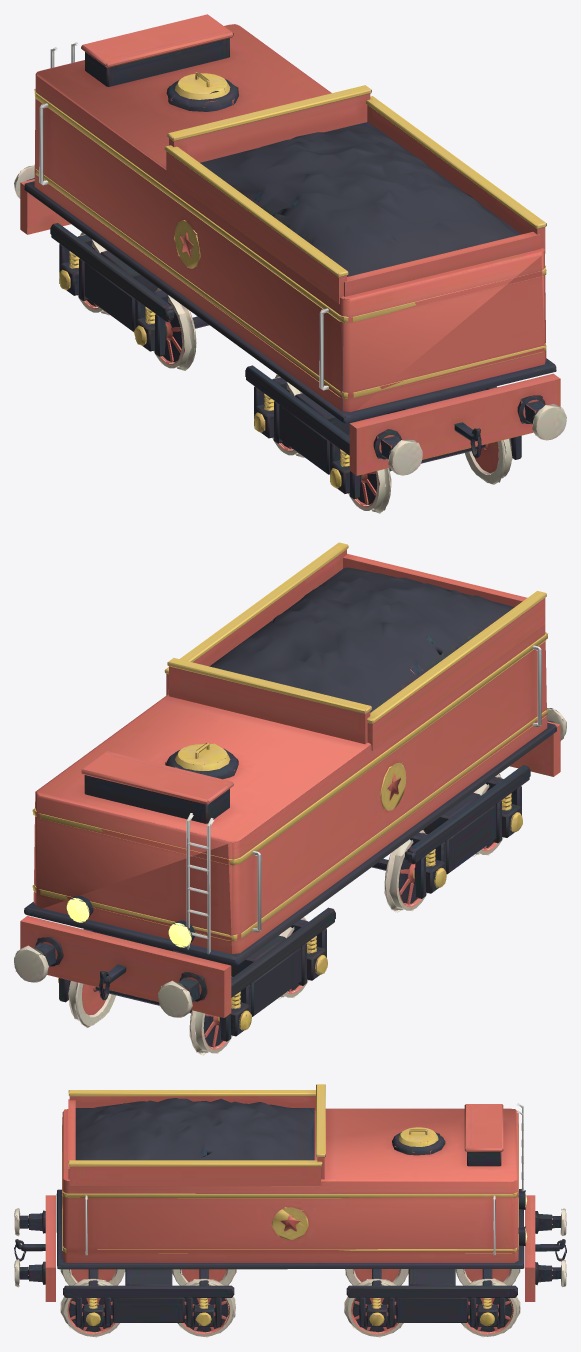
File: tender.glb
The picture shows the model from 3 angles, top to bottom: view 1: azimuth 30°, elevation 25°; view 2: azimuth 150°, elevation 25°; view 3: azimuth 270°, elevation 25°; orthographic projection. The views are drawn at different scales.
Visible parts, largest first — view 1: coal-tender_body; view 2: coal-tender_body; view 3: coal-tender_body.
Boxes of the visible parts, box(x1,y1,x2,y2) form: coal-tender_body: box(14, 14, 566, 513); coal-tender_body: box(14, 542, 566, 1055); coal-tender_body: box(14, 1084, 566, 1337).
Size of the model in its own units: 2.69 by 3.23 by 8.
Materials: 2 (1 with a texture image).
